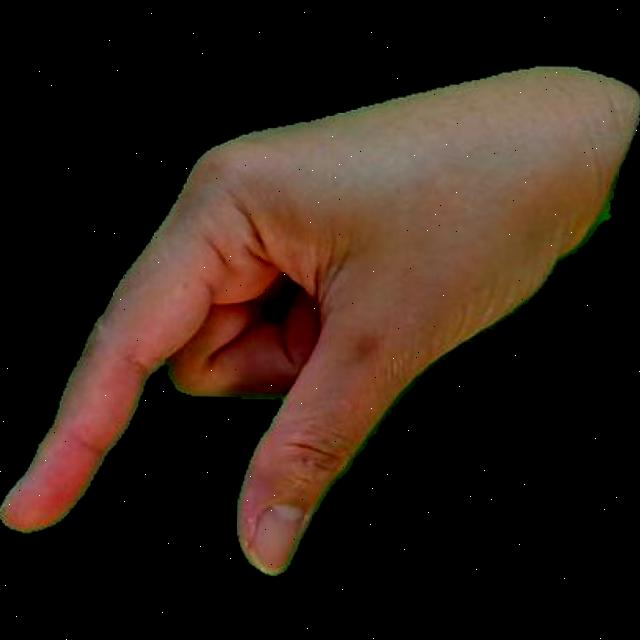q: (0, 42, 640, 592)
